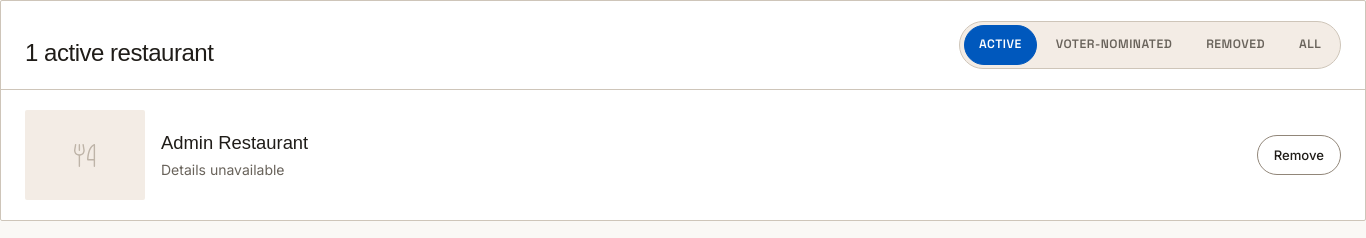
CandidateRoster › filters removed restaurants and exposes restore actions only while editable
Expected: the text "Admin Restaurant" is shown, [161,132,308,153]
Expected: the text "Voter Restaurant" is not shown
Click the button "Removed": (1236, 45) [1191,25,1280,65]
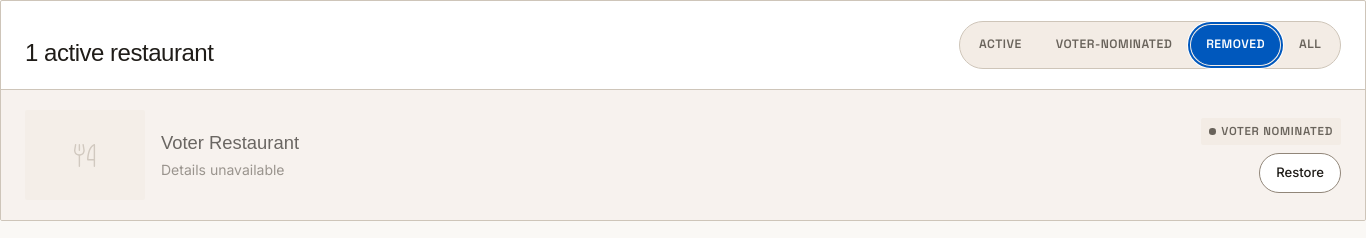
Now the text "Voter Restaurant" is shown, box [161,132,299,153]
Now the button "Restore" is shown, box [1259,153,1341,193]
